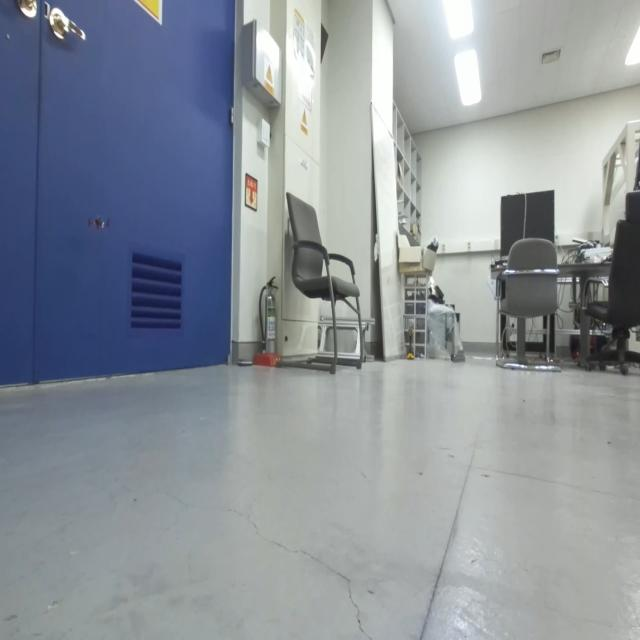crazyflie: (82, 208, 119, 246)
